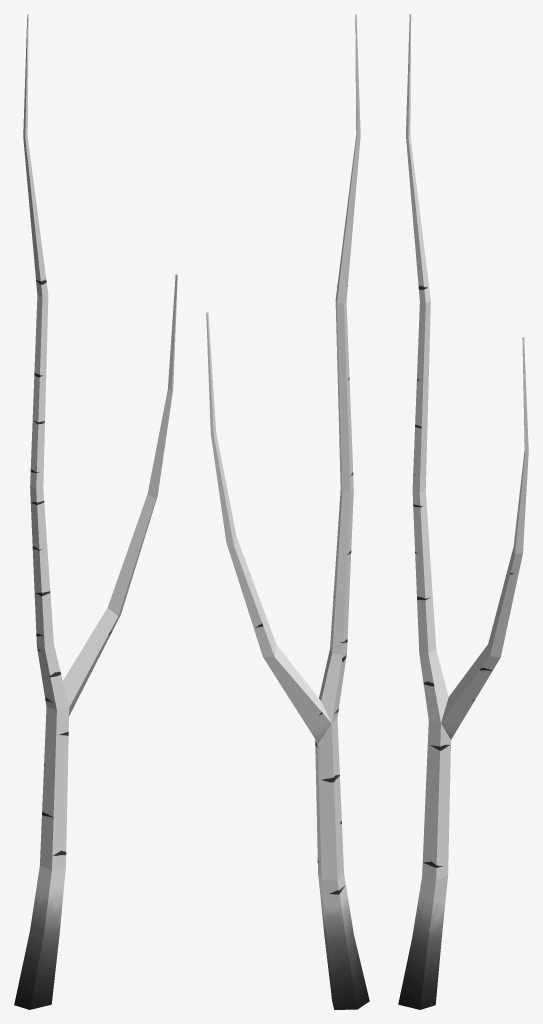
The model's file is Birch_Tree_NoLeaves_l_Snow_BT_01.fbx.
3 renders of one model, left to right at view 1: azimuth 30°, elevation 25°; view 2: azimuth 210°, elevation 25°; view 3: azimuth 330°, elevation 25°, orthographic.
Visible parts, largest first — view 1: Birch_Tree_NoLeaves_l_Snow_BT_01; view 2: Birch_Tree_NoLeaves_l_Snow_BT_01; view 3: Birch_Tree_NoLeaves_l_Snow_BT_01.
Part boxes in pixels (bbox=[...]): Birch_Tree_NoLeaves_l_Snow_BT_01: bbox=[14, 14, 177, 1009]; Birch_Tree_NoLeaves_l_Snow_BT_01: bbox=[206, 14, 369, 1009]; Birch_Tree_NoLeaves_l_Snow_BT_01: bbox=[398, 14, 528, 1009].
Size of the model in its own units: 228 by 1493 by 70.57.
